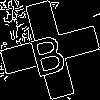B: (25, 25, 69, 78)
